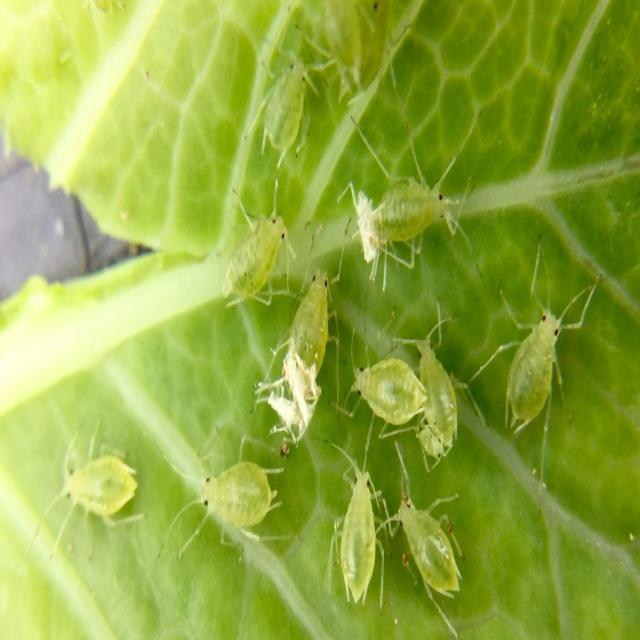Aphids: (318, 319, 486, 630), (208, 162, 353, 403), (496, 248, 591, 488), (176, 438, 294, 568), (48, 426, 155, 558), (367, 168, 470, 275), (248, 48, 328, 180)
